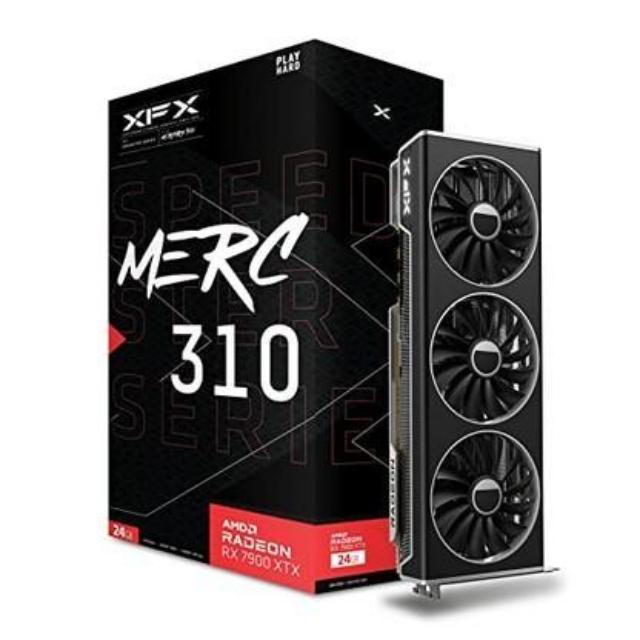GPU: (372, 114, 550, 596)
